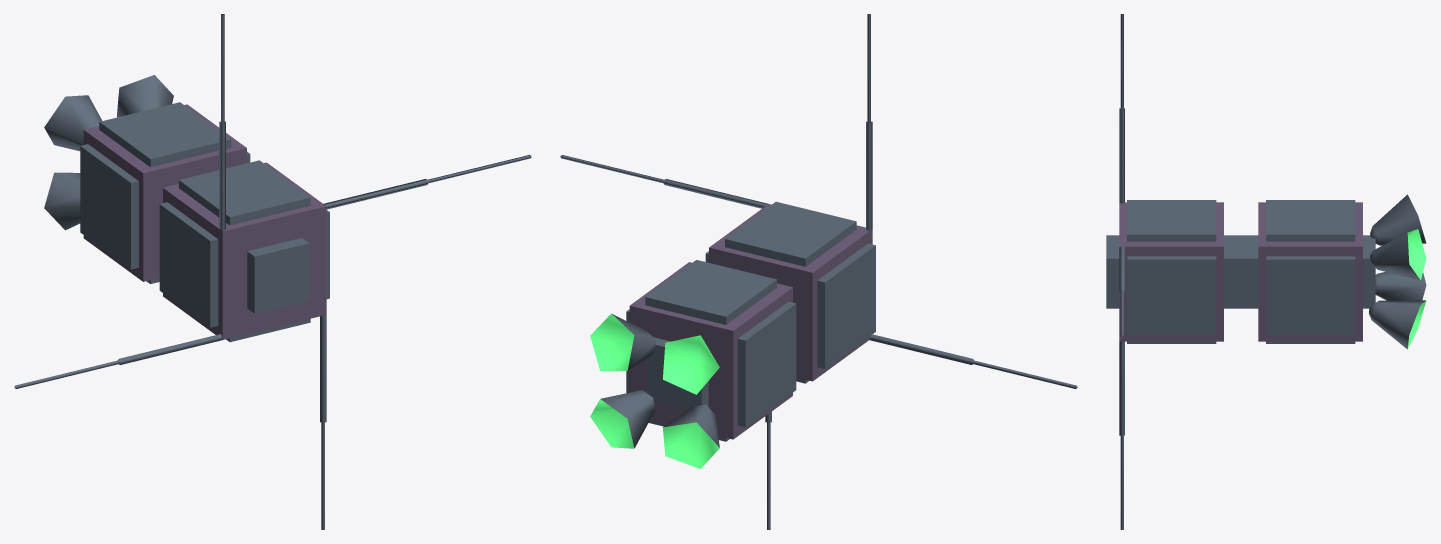
Rendered from Probe-TypeB-Cubesat.fbx.
3 views of the same model, side by side, from view 1: azimuth 30°, elevation 25°; view 2: azimuth 150°, elevation 25°; view 3: azimuth 270°, elevation 25° (orthographic). The views are drawn at different scales.
Visible parts, largest first — view 1: pCylinderShape3; view 2: pCylinderShape3; view 3: pCylinderShape3.
Boxes of the visible parts, x1=… form: pCylinderShape3: x1=14, y1=14, x2=531, y2=529; pCylinderShape3: x1=560, y1=14, x2=1077, y2=529; pCylinderShape3: x1=1106, y1=14, x2=1426, y2=529.
Bounding box in the file's own units: 0.6315 × 0.6315 × 0.3878.
